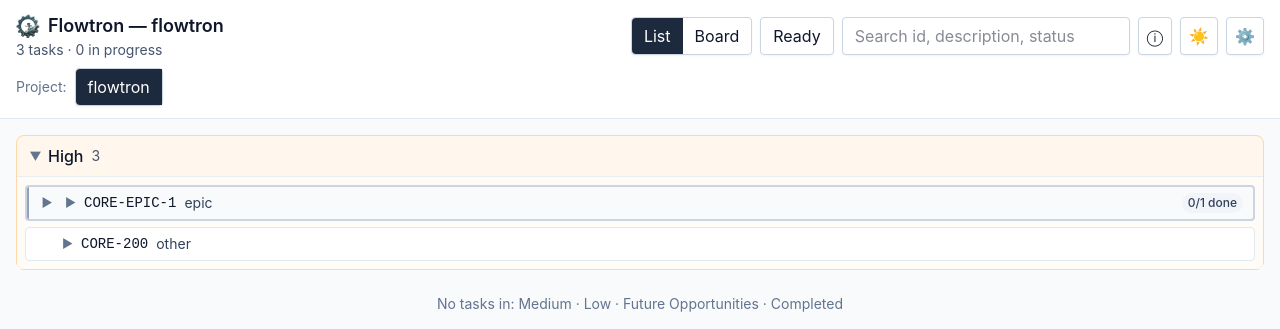
App — search reaches subtasks › still filters out an epic when neither it nor its children match
Expected: the text "CORE-EPIC-1" is shown, [84,193,176,213]
In the search field: [986, 36] box [842,17,1130,55], type "CORE-200"
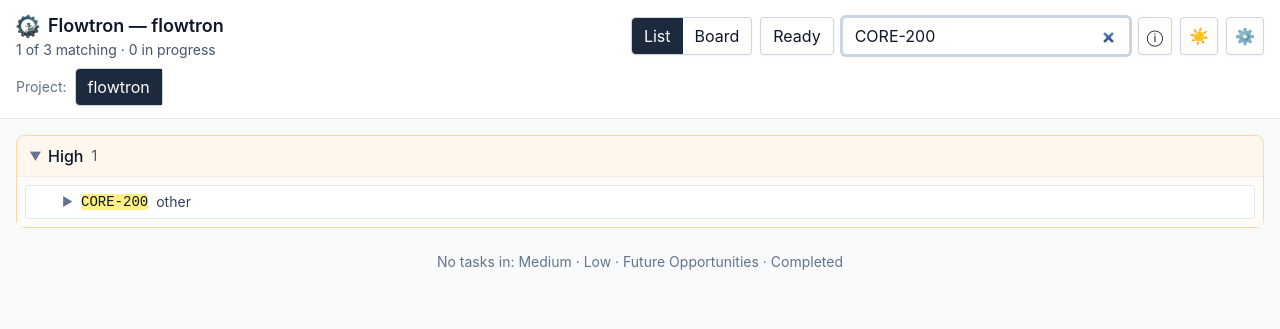
Expected: the text "CORE-200" is shown, [81,194,148,210]
Expected: the button "CORE-EPIC-1" is gone
